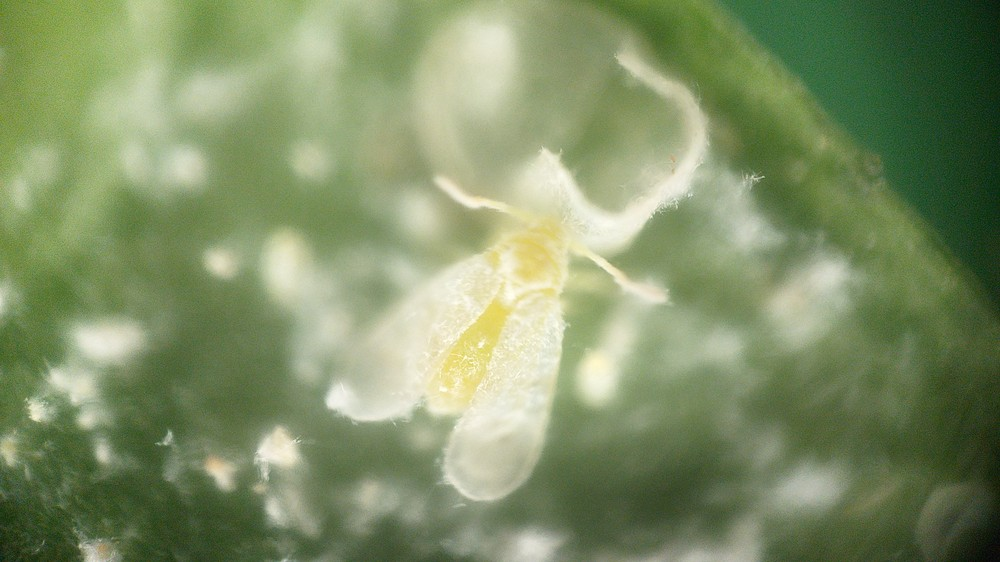Mosca Blanca: (299, 166, 692, 511)
